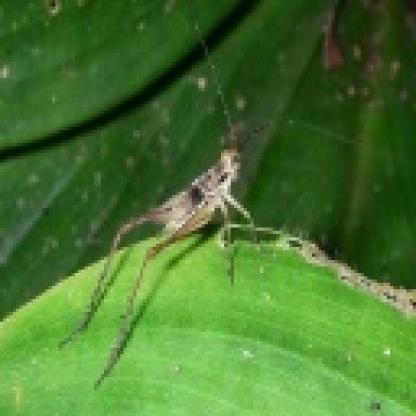grasshopper: (66, 115, 248, 374)
